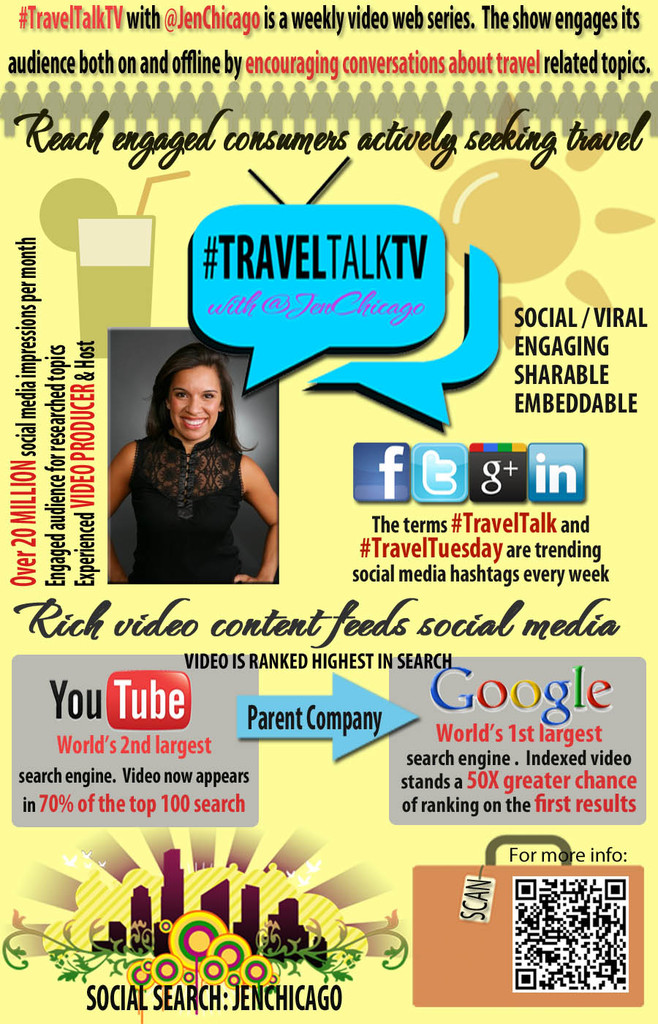Human-face: (167, 366, 223, 440)
